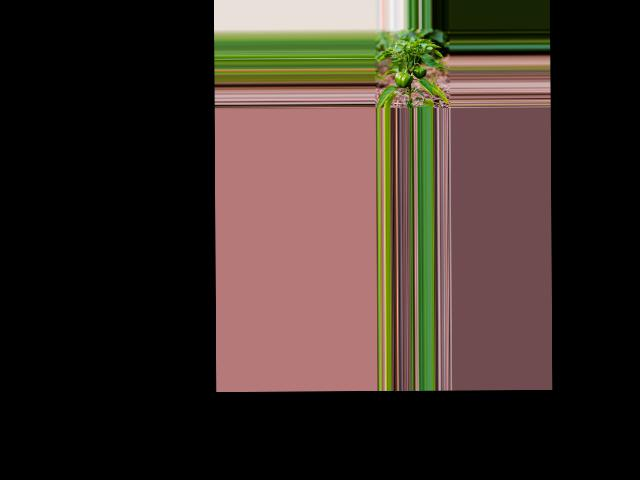bell_pepper: (412, 65, 427, 79)
